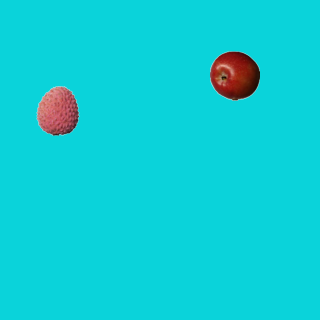Apple Braeburn: (209, 50, 259, 100)
Lychee: (32, 85, 82, 135)
